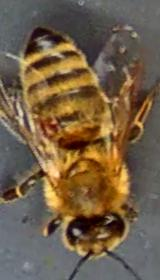varroa_mite: (34, 110, 64, 138)
